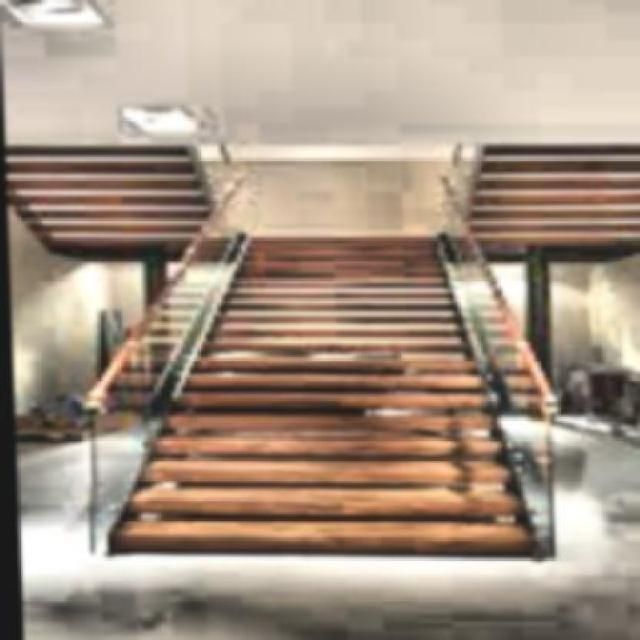stair: (131, 232, 524, 570)
